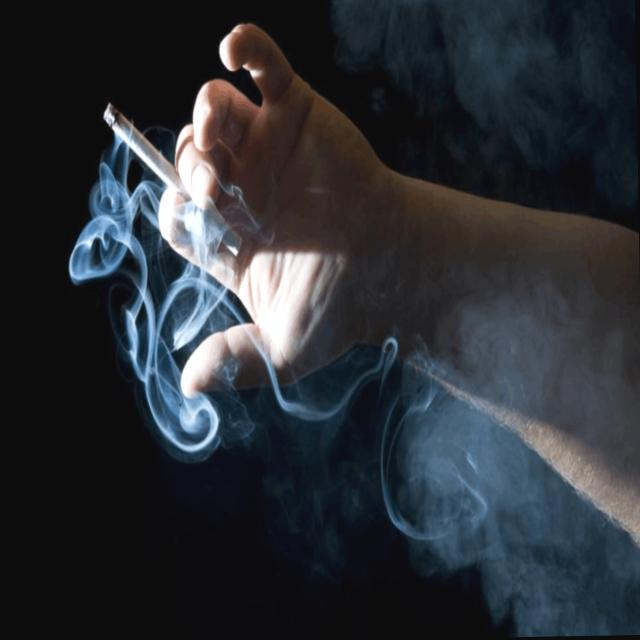smoke: (102, 95, 186, 204)
